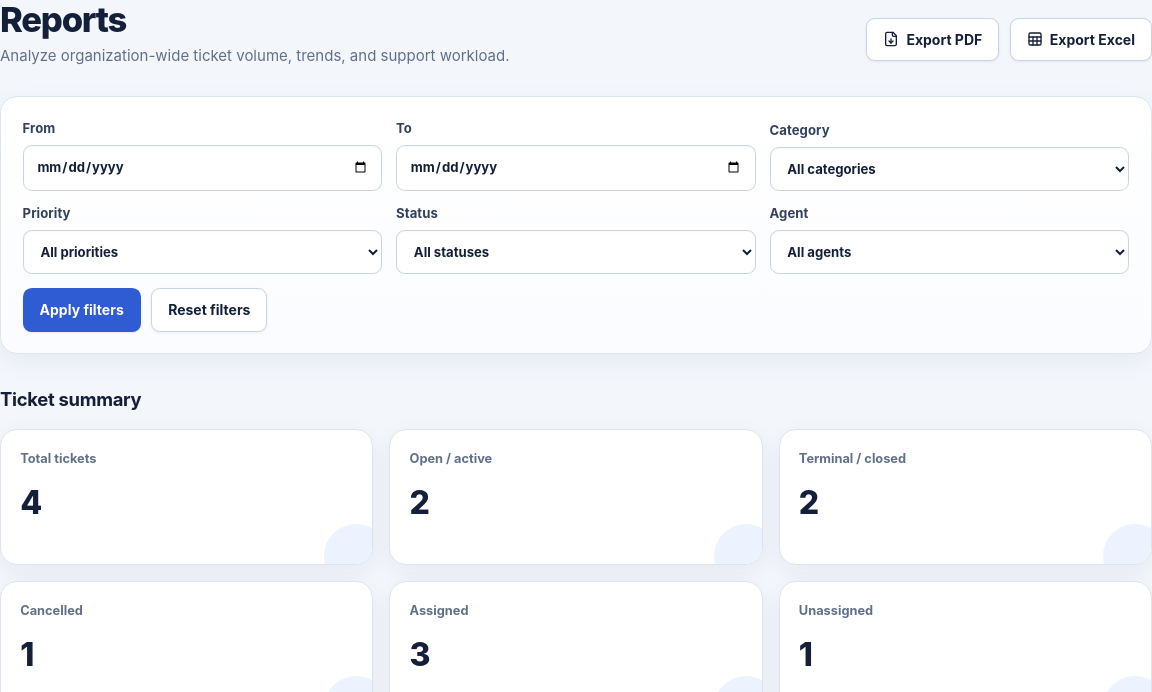
Test: ReportsPage › prevents duplicate exports and exposes a safe failure
The image size is (1152, 692).
Click the button "Export Excel" at (1081, 39), box [1010, 18, 1151, 61]
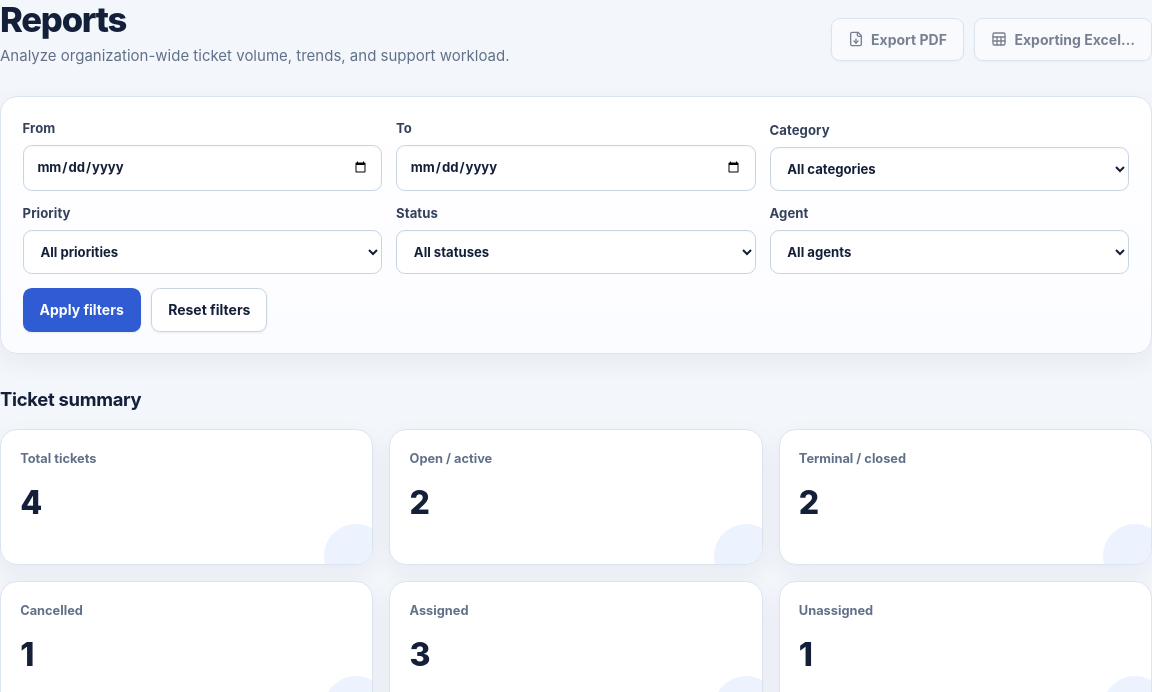
Click the button named "Export Excel" at (1063, 39), box [974, 18, 1151, 61]
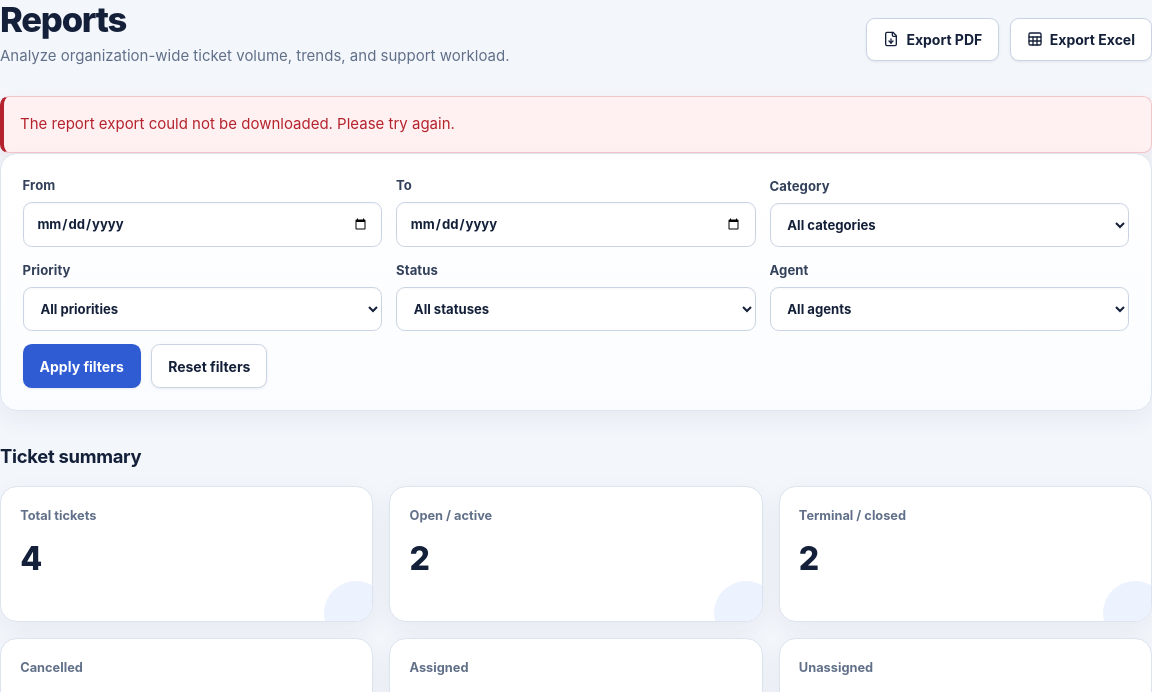
Expected: the message does not show "secret", [0, 96, 1151, 153]
Now the message shows "could not be downloaded", box [20, 114, 455, 134]
